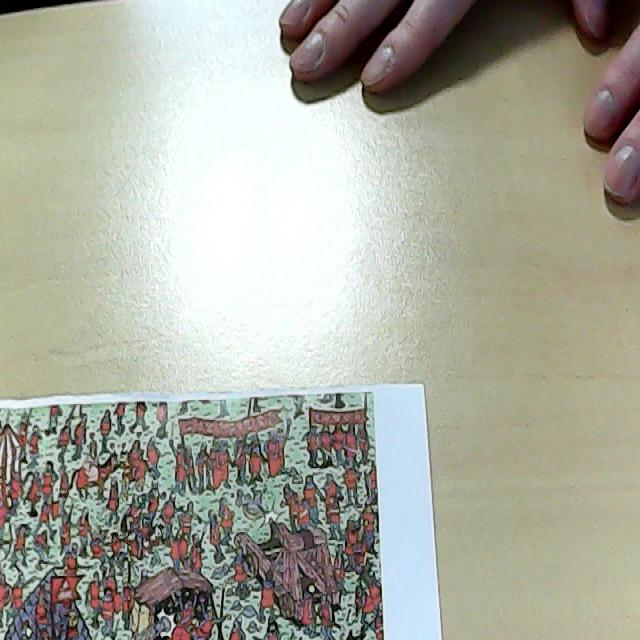waldo: (181, 554, 193, 570)
